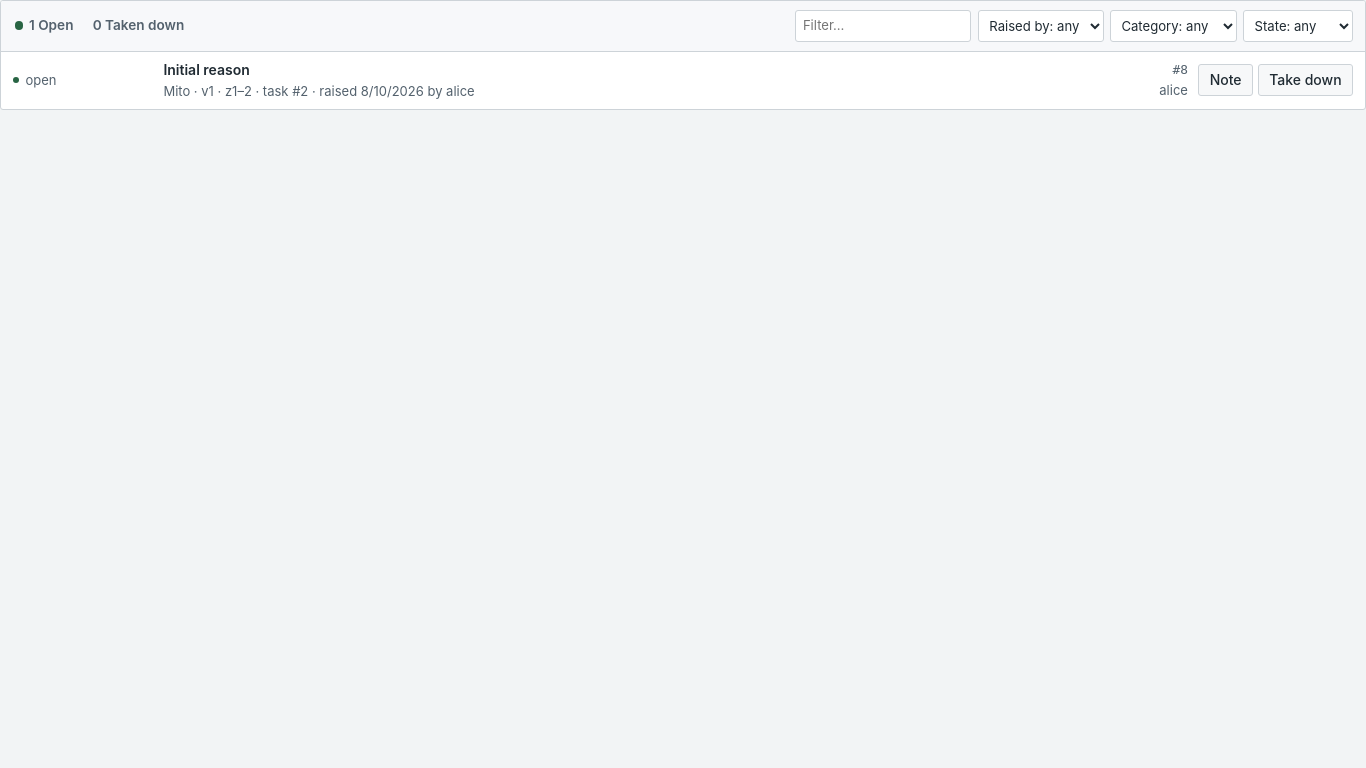
Scenario: HardCaseNotesModal › opens the shared modal from the work list's Note button
Click the button "Note".
click(1226, 80)  # box [1198,64,1253,96]
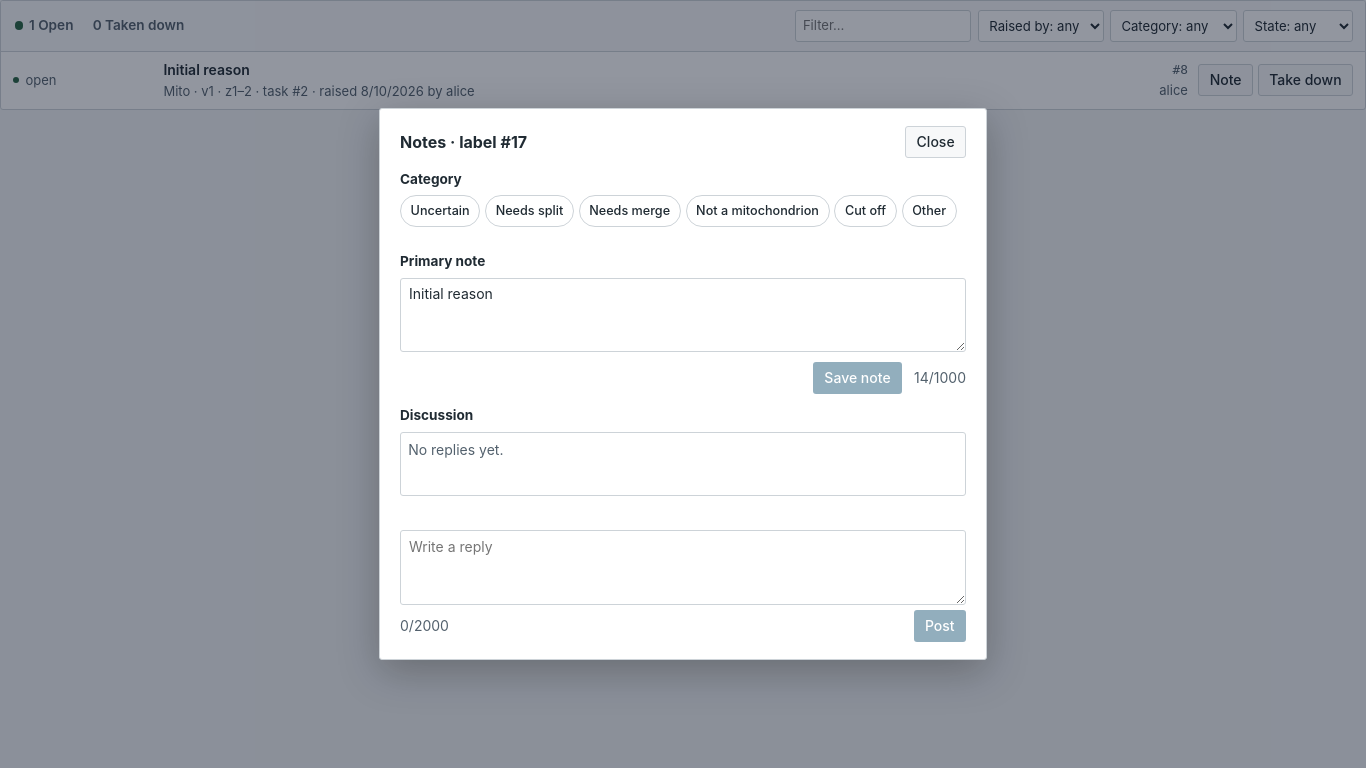
Now the dialog "Notes · label #17" is shown, box [379,108,987,660]
Now the text "No replies yet." is shown, box [408,441,504,458]
